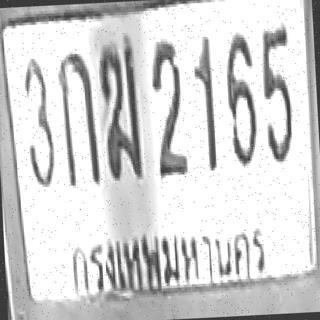A01: (56, 49, 99, 187)
A06: (96, 41, 143, 180)
N01: (190, 35, 218, 173)
N02: (150, 38, 189, 178)
N03: (20, 54, 56, 189)
N05: (258, 20, 295, 164)
N06: (223, 29, 259, 167)
P04: (66, 220, 275, 298)
